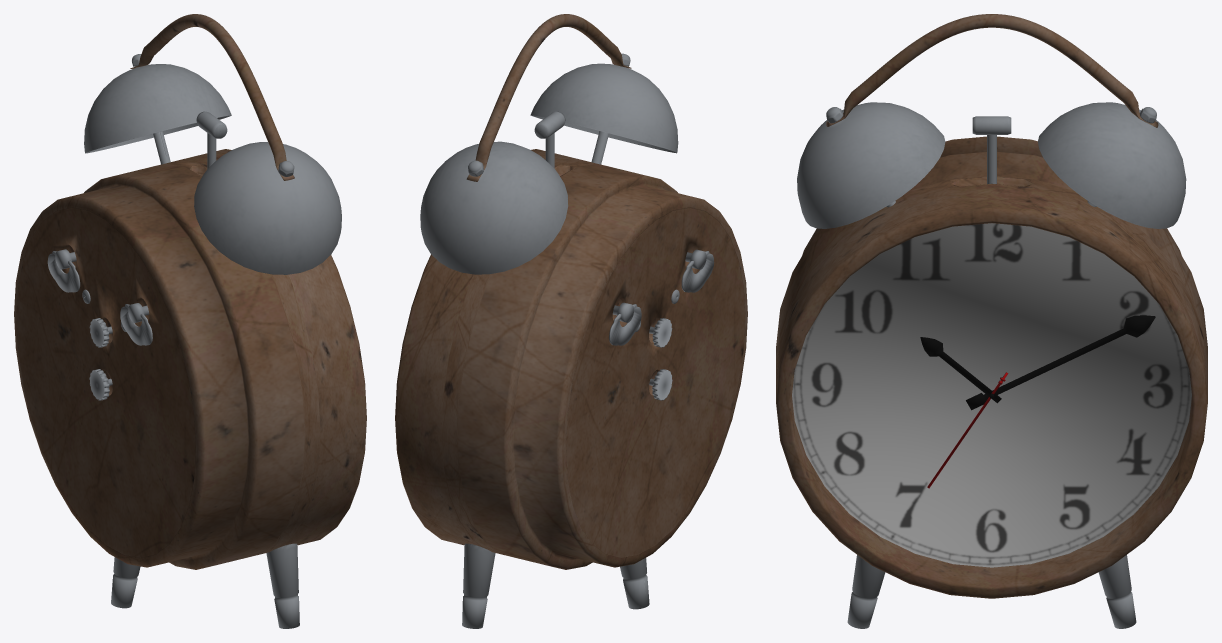
Rendered from alarm_clock_dusty.glb.
The picture shows the model from 3 angles, left to right: view 1: azimuth 30°, elevation 25°; view 2: azimuth 150°, elevation 25°; view 3: azimuth 270°, elevation 25°; orthographic projection. The views are drawn at different scales.
Visible parts, largest first — view 1: NurbsPath; view 2: NurbsPath; view 3: NurbsPath.
Boxes of the visible parts, bbox=[...] form: NurbsPath: bbox=[14, 14, 366, 628]; NurbsPath: bbox=[395, 14, 747, 628]; NurbsPath: bbox=[776, 14, 1207, 628].
Size of the model in its own units: 10.44 by 30.89 by 20.03.
1 material, 1 textured.
